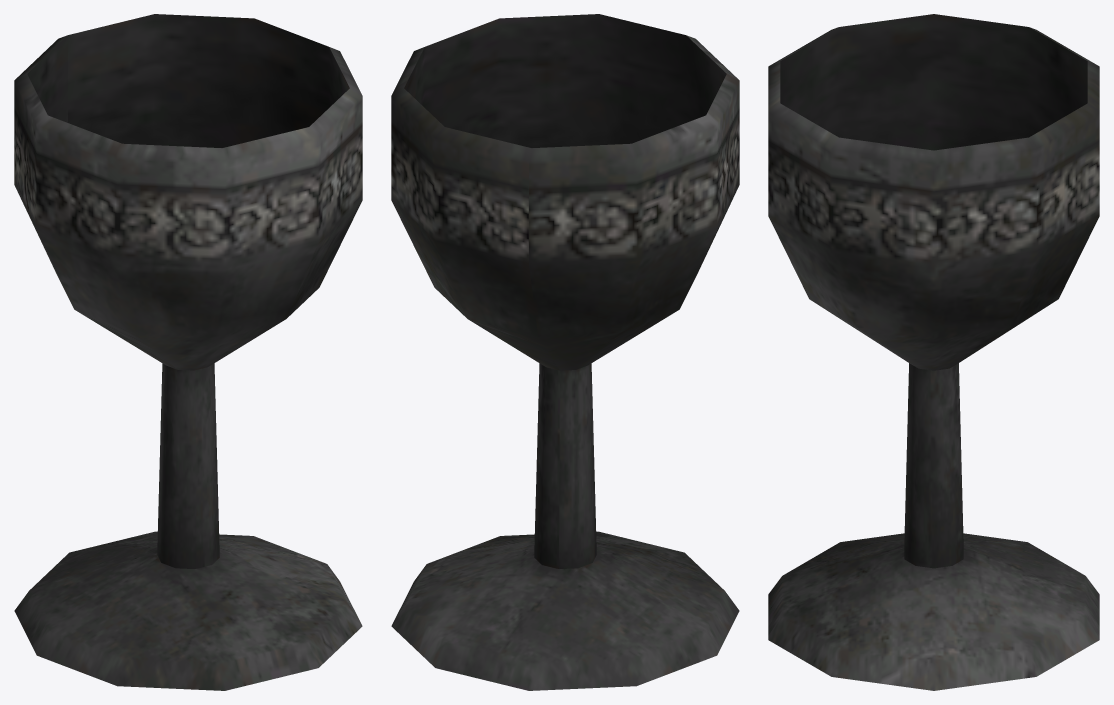
Rendered from goblet.dae.
The picture shows the model from 3 angles, left to right: view 1: azimuth 30°, elevation 25°; view 2: azimuth 150°, elevation 25°; view 3: azimuth 270°, elevation 25°; orthographic projection.
Parts seen in each view (by area): view 1: pCylinder1; view 2: pCylinder1; view 3: pCylinder1.
Part boxes in pixels (x1,y1,x2,y2): pCylinder1: [14, 14, 362, 690]; pCylinder1: [391, 14, 739, 690]; pCylinder1: [768, 14, 1099, 690].
Size of the model in its own units: 0.0991 by 0.1677 by 0.0942.
